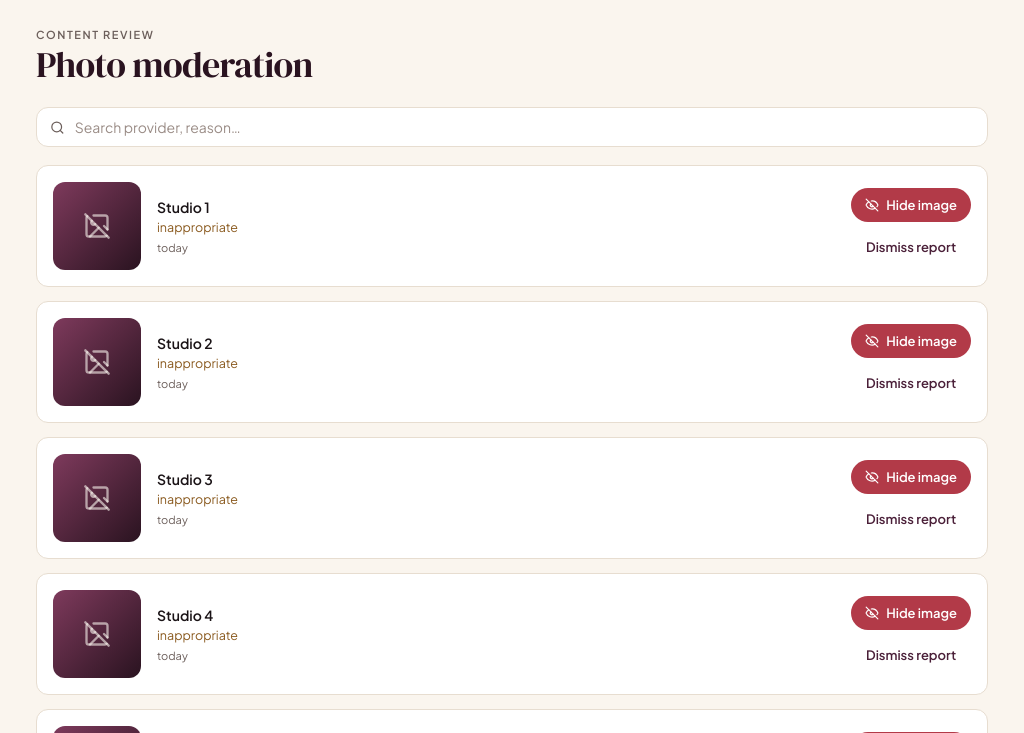
Scenario: <Moderation> (reported photos) - server paging › dismissing a report removes the row and re-reads the page so the queue refills and the total follows
Click the 1st button "Dismiss report" at (911, 247), box [851, 230, 971, 264]
(page scrolled)
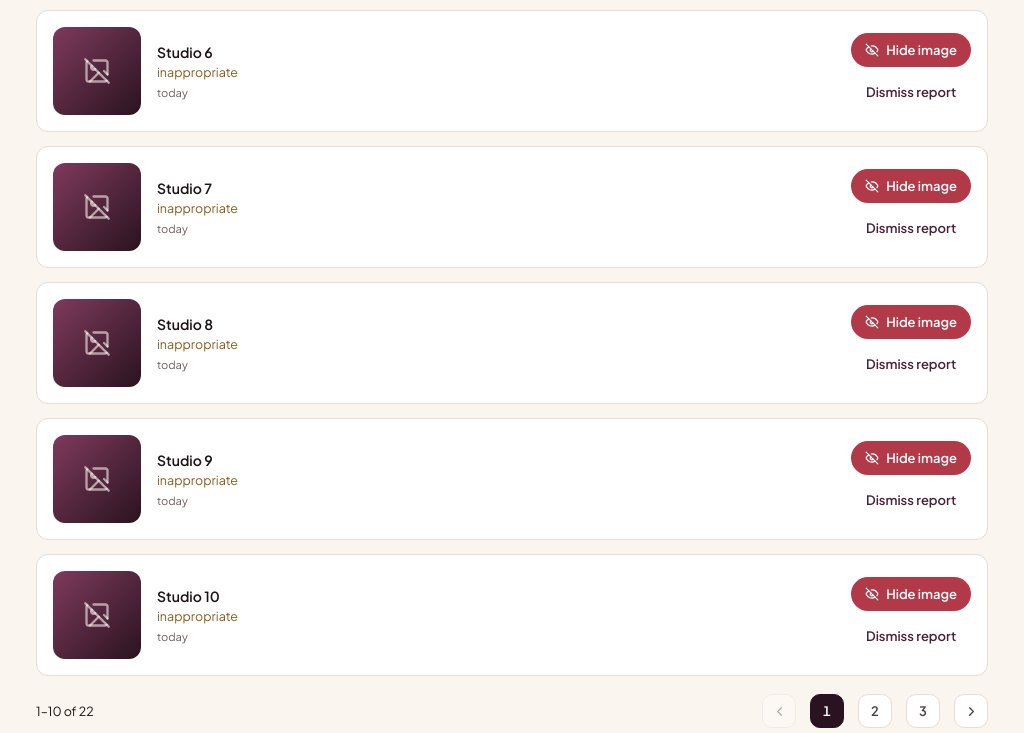
Result: the text "1–10 of 22" is shown at [36, 703, 94, 719]
